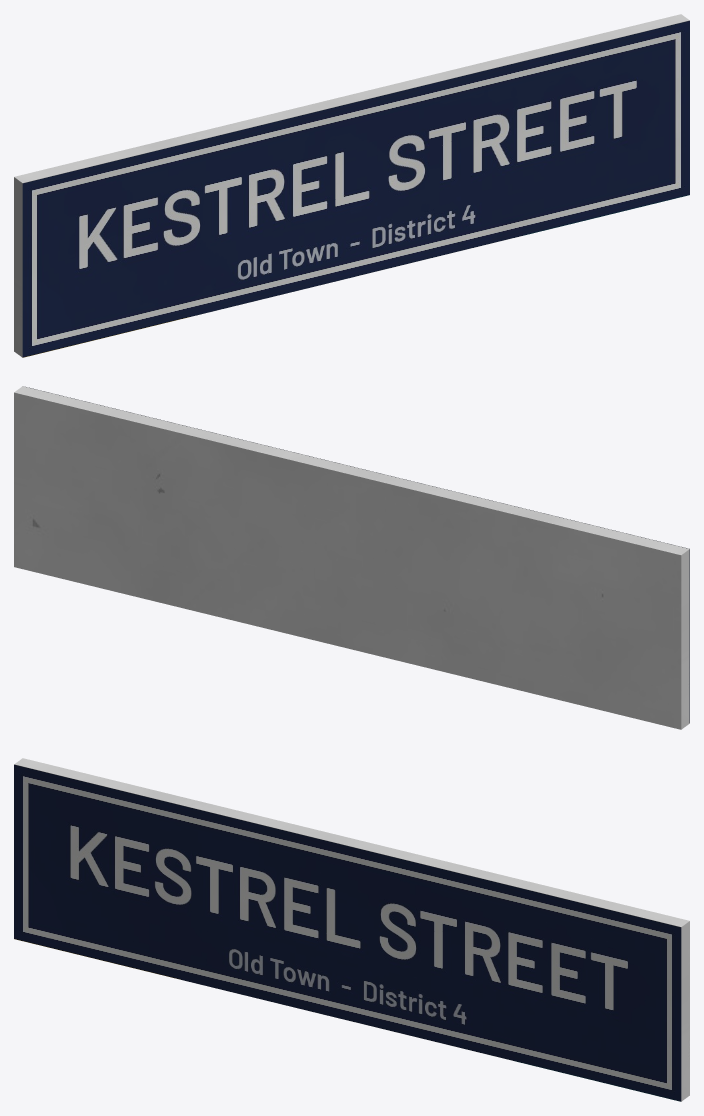
The model's file is StreetNamePlate.obj.
The picture shows the model from 3 angles, top to bottom: view 1: azimuth 30°, elevation 25°; view 2: azimuth 150°, elevation 25°; view 3: azimuth 330°, elevation 25°; orthographic projection.
Visible parts, largest first — view 1: Signs, PaintBlack; view 2: PaintBlack, Signs; view 3: Signs, PaintBlack.
Part boxes in pixels (x1,y1,x2,y2): Signs: (22,20,689,357); PaintBlack: (14,14,689,357); PaintBlack: (14,386,689,729); Signs: (25,386,689,722); Signs: (14,764,681,1101); PaintBlack: (14,758,689,1101).
Bounding box in the file's own units: 0.9 × 0.225 × 0.0205.
Materials: 2 (2 with a texture image).
